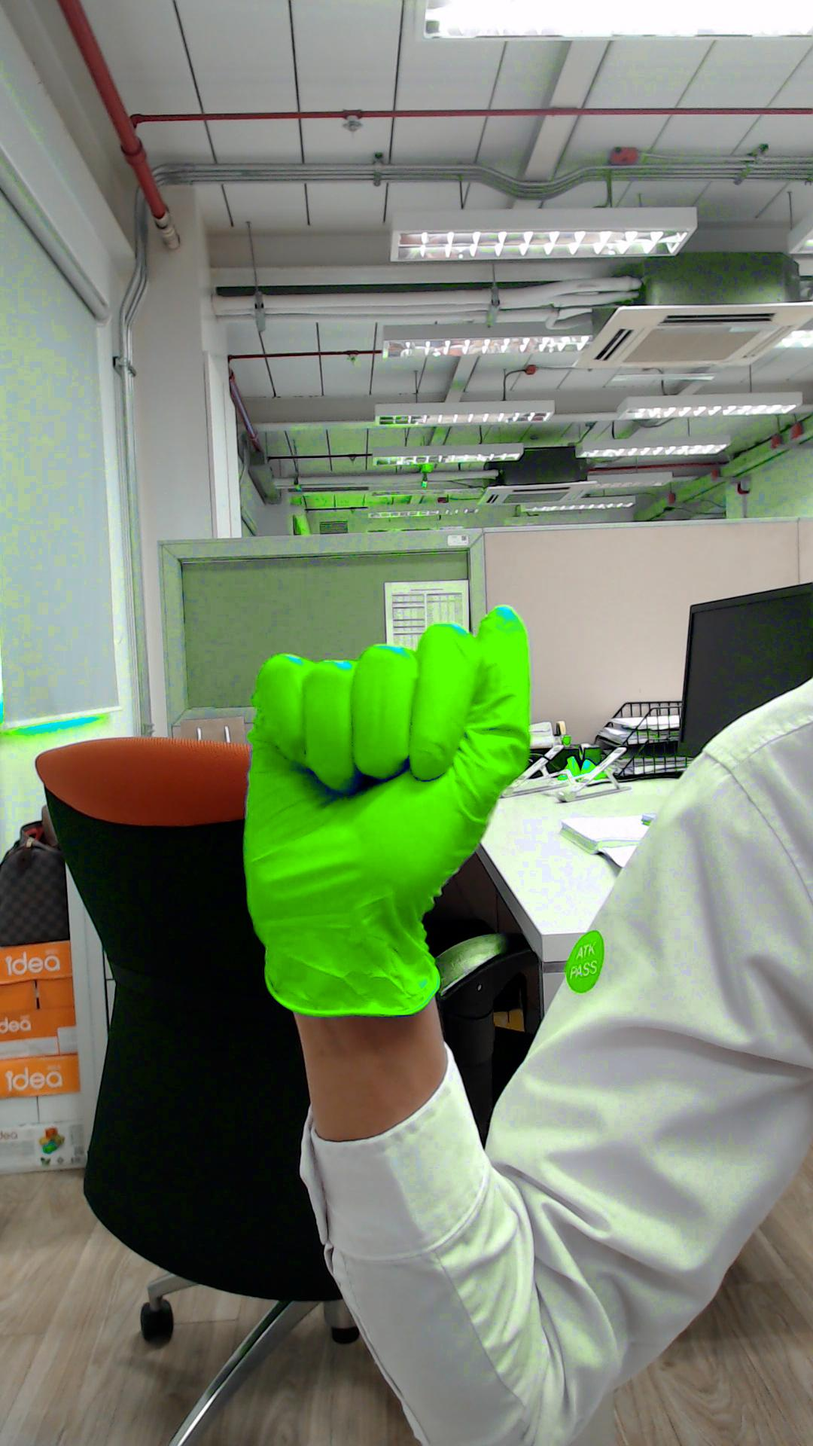gloves: (235, 587, 539, 945)
